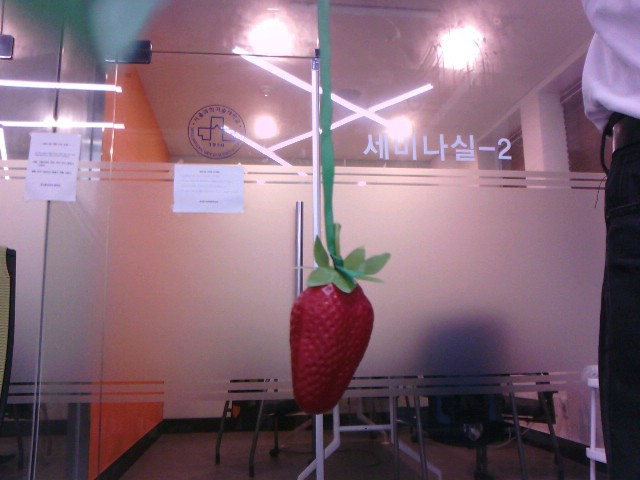strawberry: (282, 273, 380, 410)
